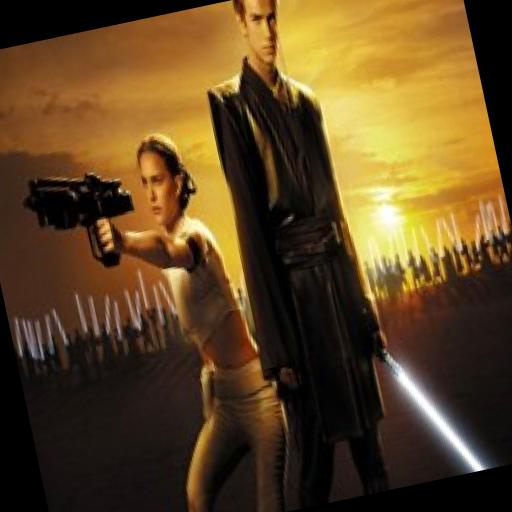human: (187, 0, 417, 509), (82, 121, 305, 512)
lightsaber: (374, 324, 492, 486)
